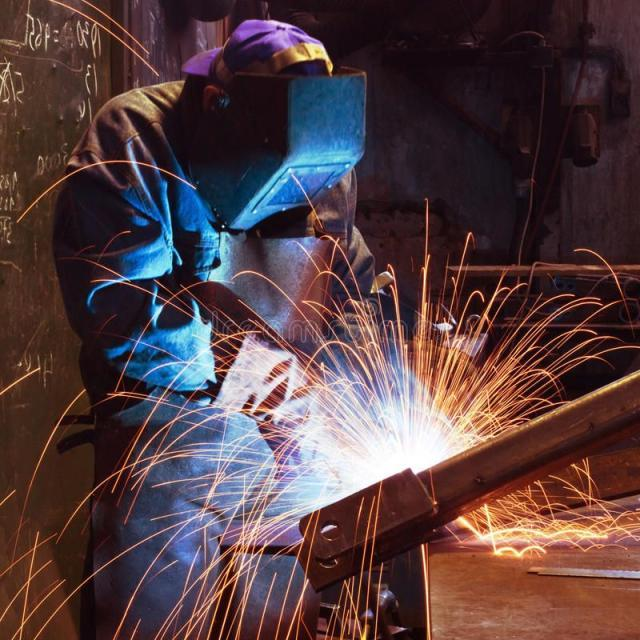with_helmet: (173, 50, 365, 230)
